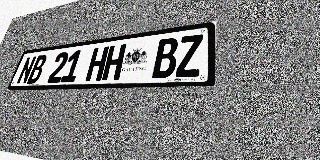1: (60, 50, 84, 82)
2: (47, 52, 70, 83)
B: (152, 37, 179, 78), (26, 54, 48, 84)
H: (101, 44, 127, 81), (85, 46, 109, 81)
N: (16, 56, 37, 84)
Z: (175, 34, 203, 77)
